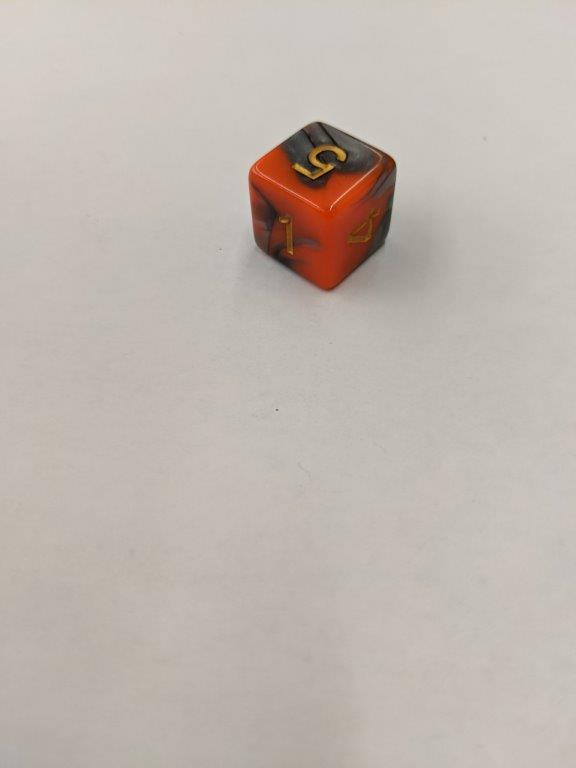d6-5: (248, 117, 398, 292)
